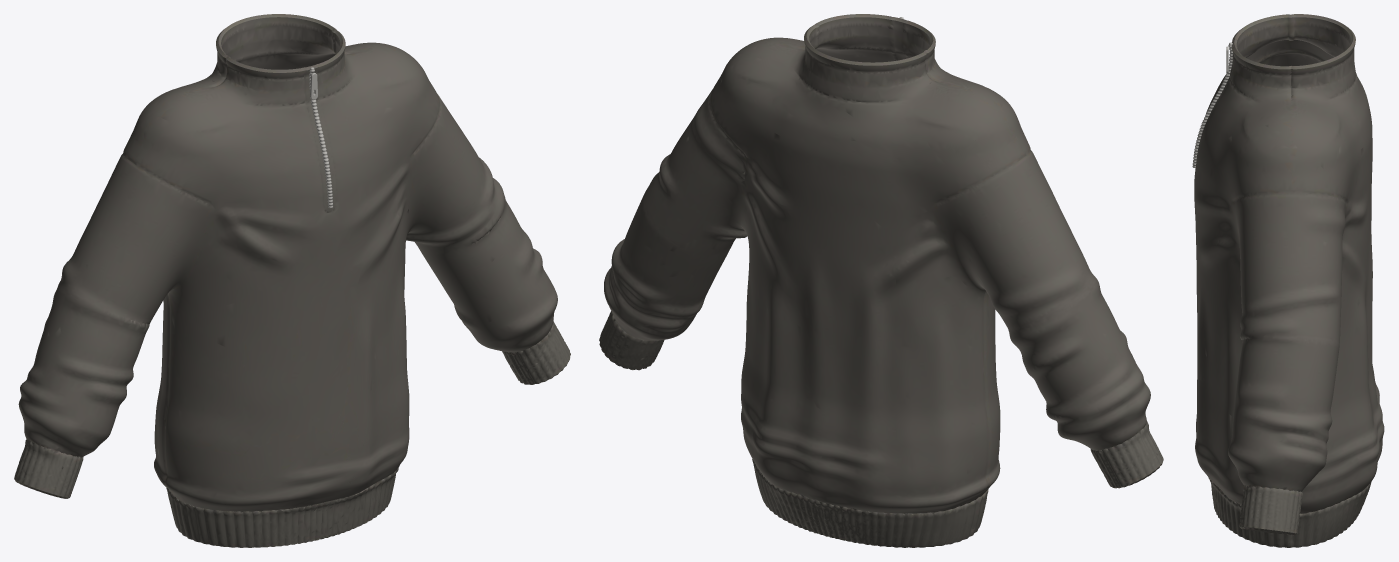
File: 07_sudadera_cuarto_cremallera_pbr.glb
3 renders of one model, left to right at view 1: azimuth 30°, elevation 25°; view 2: azimuth 150°, elevation 25°; view 3: azimuth 270°, elevation 25°, orthographic. The views are drawn at different scales.
Parts seen in each view (by area): view 1: Camiseta PBR, Cremallera; view 2: Camiseta PBR; view 3: Camiseta PBR, Cremallera.
Part boxes in pixels (box(x1,y1,x2,y2)): Camiseta PBR: box(14, 14, 570, 547); Cremallera: box(309, 67, 333, 208); Camiseta PBR: box(599, 14, 1163, 547); Camiseta PBR: box(1194, 14, 1384, 547); Cremallera: box(1192, 42, 1232, 167).
Size of the model in its own units: 0.9818 by 0.8065 by 0.303.
2 materials, 1 textured.
